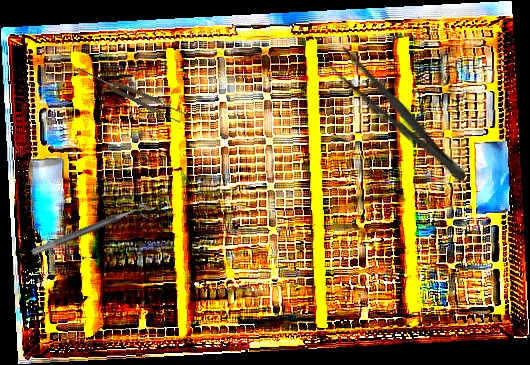Dressing Forceps: (314, 37, 475, 190)
Fixation Ring: (30, 200, 156, 267)
Tissue Forceps: (74, 61, 186, 125)
